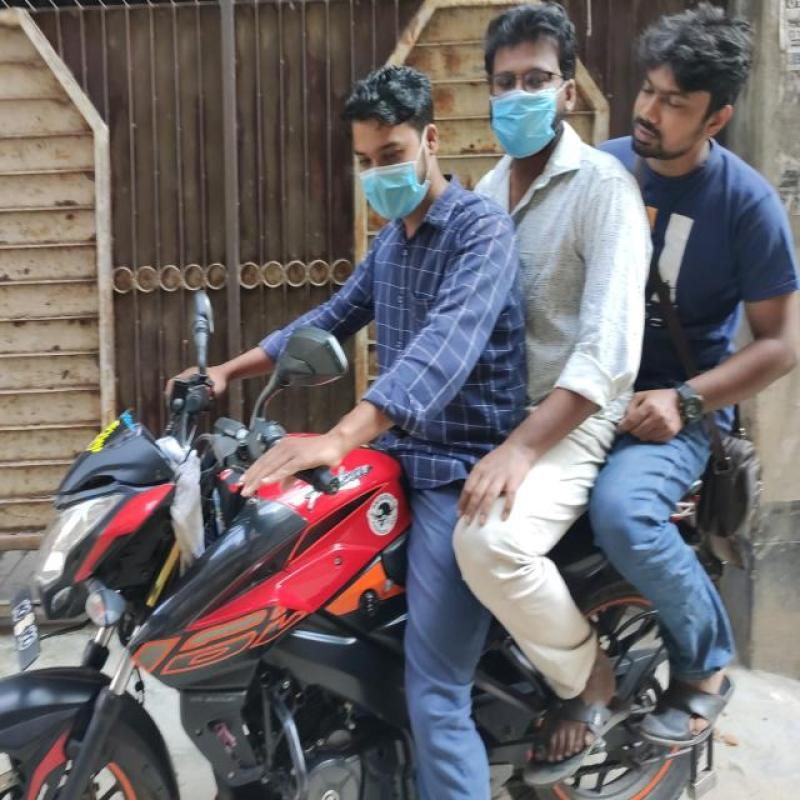nohelmet: (621, 10, 770, 166), (480, 6, 596, 163), (346, 61, 442, 210)
